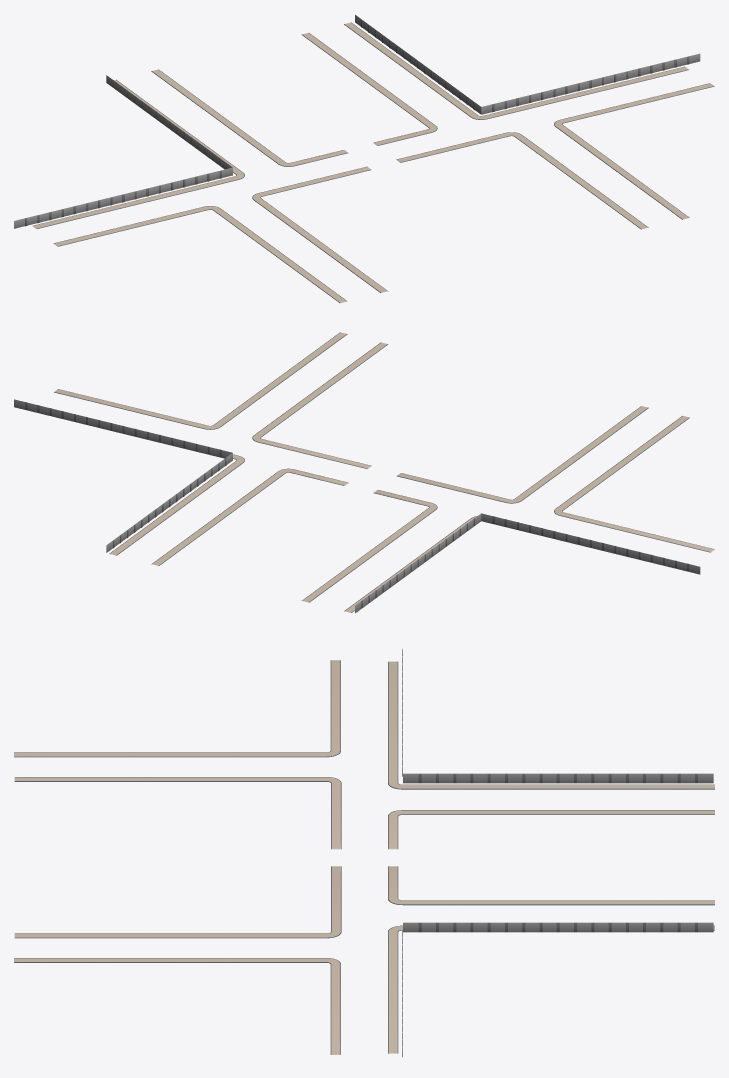
Rendered from Trotoar.fbx.
3 renders of one model, top to bottom at view 1: azimuth 30°, elevation 25°; view 2: azimuth 150°, elevation 25°; view 3: azimuth 270°, elevation 25°, orthographic. The views are drawn at different scales.
Parts seen in each view (by area): view 1: Tembok, Plane.050, Plane.047, Plane.024, Plane.030; view 2: Tembok, Plane.050, Plane.024, Plane.030, Plane.047; view 3: Tembok, Plane.050, Plane.024, Plane.047, Plane.030.
Boxes of the visible parts, <box> form: Tembok: <box>14,15,700,228</box>; Plane.050: <box>53,83,714,302</box>; Plane.047: <box>33,22,688,228</box>; Plane.024: <box>252,132,648,292</box>; Plane.030: <box>151,33,437,166</box>; Tembok: <box>14,399,700,613</box>; Plane.050: <box>54,332,714,552</box>; Plane.024: <box>252,342,648,503</box>; Plane.030: <box>151,468,437,602</box>; Plane.047: <box>109,454,477,612</box>; Tembok: <box>402,648,713,1057</box>; Plane.050: <box>14,660,340,1054</box>; Plane.024: <box>14,777,341,938</box>; Plane.047: <box>388,661,714,1053</box>; Plane.030: <box>388,810,714,905</box>.
Size of the model in its own units: 61490 by 678 by 44221.
